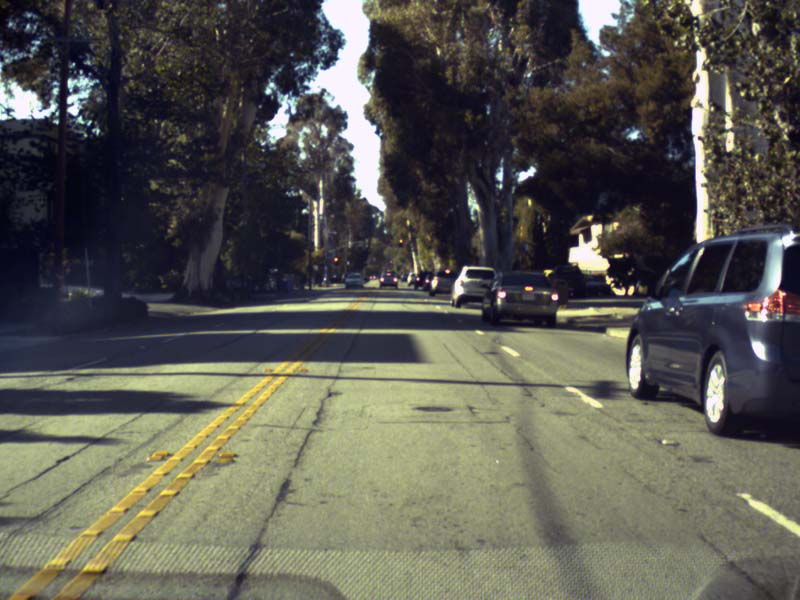Red: (333, 257, 338, 265), (398, 239, 402, 247)
